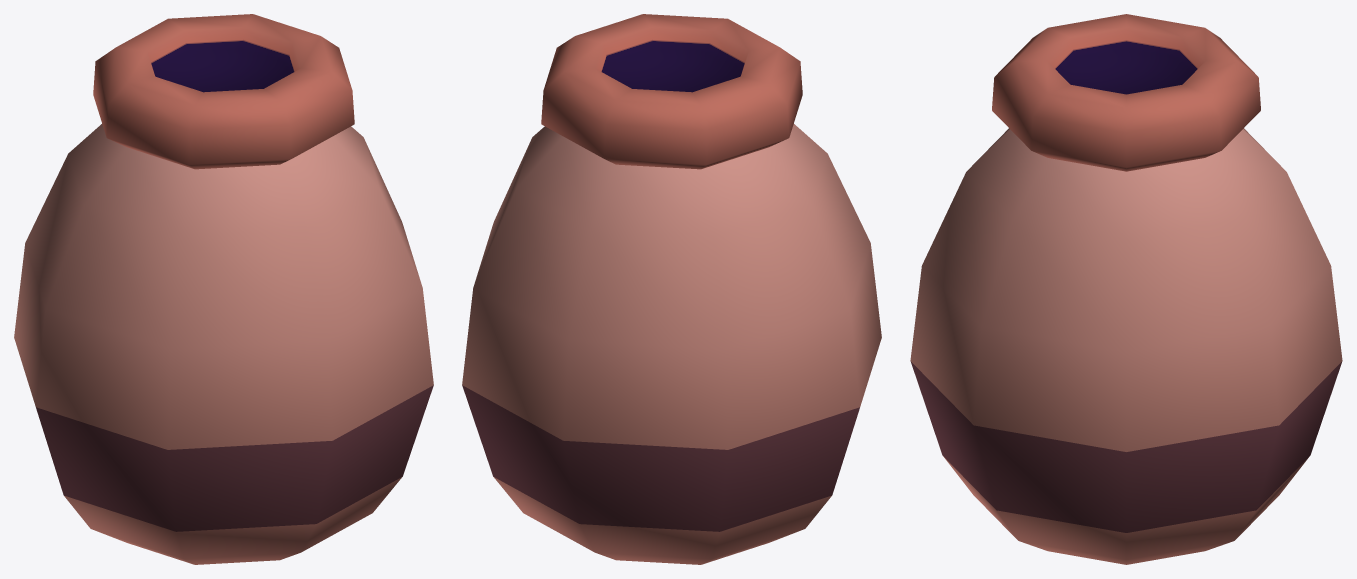
The model's file is Vase13.fbx.
The picture shows the model from 3 angles, left to right: view 1: azimuth 30°, elevation 25°; view 2: azimuth 150°, elevation 25°; view 3: azimuth 270°, elevation 25°; orthographic projection.
Parts seen in each view (by area): view 1: Vase13; view 2: Vase13; view 3: Vase13.
Part boxes in pixels (x1,y1,x2,y2): Vase13: [14, 14, 433, 564]; Vase13: [462, 14, 881, 564]; Vase13: [910, 14, 1342, 564].
Bounding box in the file's own units: 77.64 × 90.58 × 77.64.
